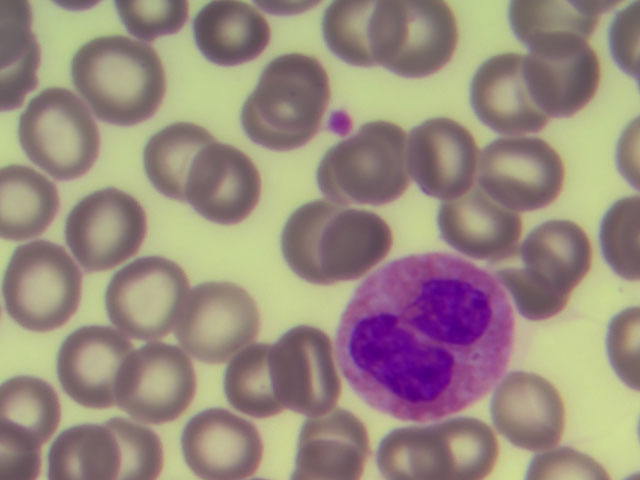Platelets: (330, 107, 356, 137)
RBC: (362, 4, 456, 76), (470, 61, 557, 137), (79, 41, 165, 116), (106, 258, 189, 334), (4, 240, 76, 325), (290, 207, 379, 273), (478, 140, 563, 209), (56, 333, 140, 401), (194, 147, 270, 222), (20, 106, 102, 175), (183, 283, 258, 358), (67, 192, 144, 264), (330, 2, 411, 70), (141, 128, 218, 197), (322, 145, 401, 210), (276, 330, 334, 418), (530, 37, 593, 116), (408, 124, 473, 200), (505, 372, 565, 453), (186, 412, 259, 478), (118, 356, 192, 420), (511, 248, 573, 322), (195, 1, 274, 59), (418, 421, 495, 480), (440, 199, 524, 253), (305, 407, 364, 480), (266, 53, 323, 128), (527, 222, 590, 289), (511, 1, 591, 53), (246, 91, 310, 155), (49, 423, 119, 480), (231, 349, 294, 411), (98, 421, 162, 480), (1, 168, 58, 234), (1, 383, 58, 448), (386, 432, 456, 480), (1, 1, 30, 106), (605, 200, 640, 278), (604, 314, 640, 385), (540, 445, 609, 480), (118, 1, 183, 38), (609, 6, 640, 73), (1, 436, 47, 476), (622, 118, 640, 189), (54, 1, 100, 12), (258, 1, 316, 9)
WBC: (351, 267, 493, 405)
